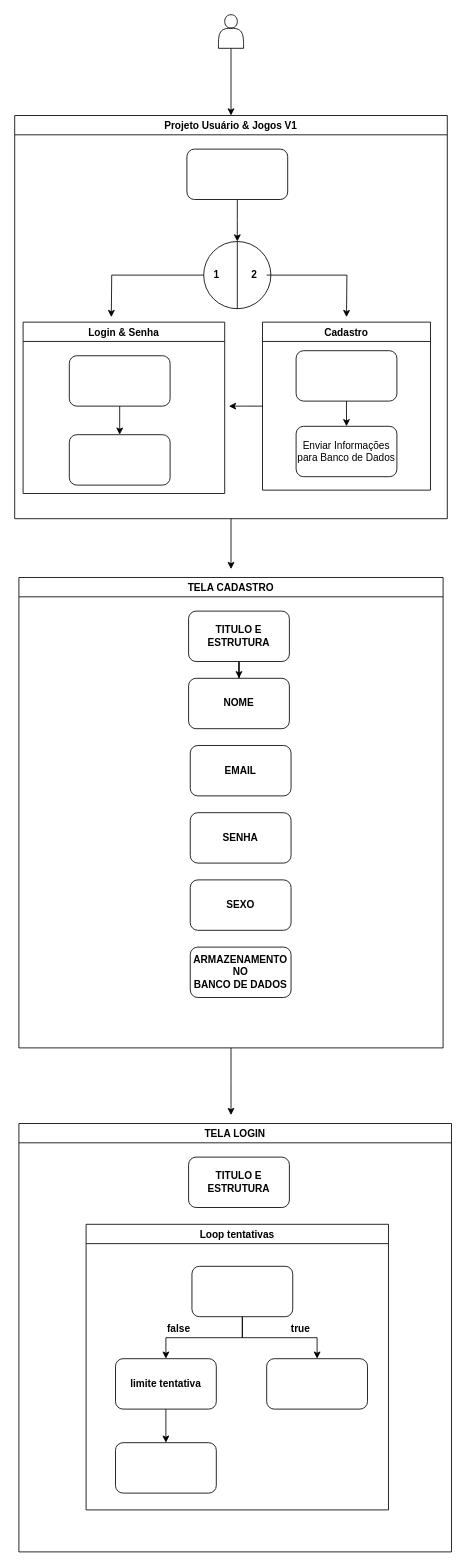
Some shapes in this 466 by 1567 pixel diagram are drawn without their labels. Here are the shapes that lost their labels. From the top down, the centre of each, then its label:
At point (237, 174): "Digite 1: Login Digite 2: Cadastro".
At point (119, 380): "Buscar Informações no banco de dados".
At point (346, 375): "Pega Informação Usuário".
At point (119, 459): "Fazer validação de cadastro".
At point (242, 1291): "EMAIL SENHA".
At point (317, 1383): "entra sistema".
At point (165, 1467): "recuperacao senha".
